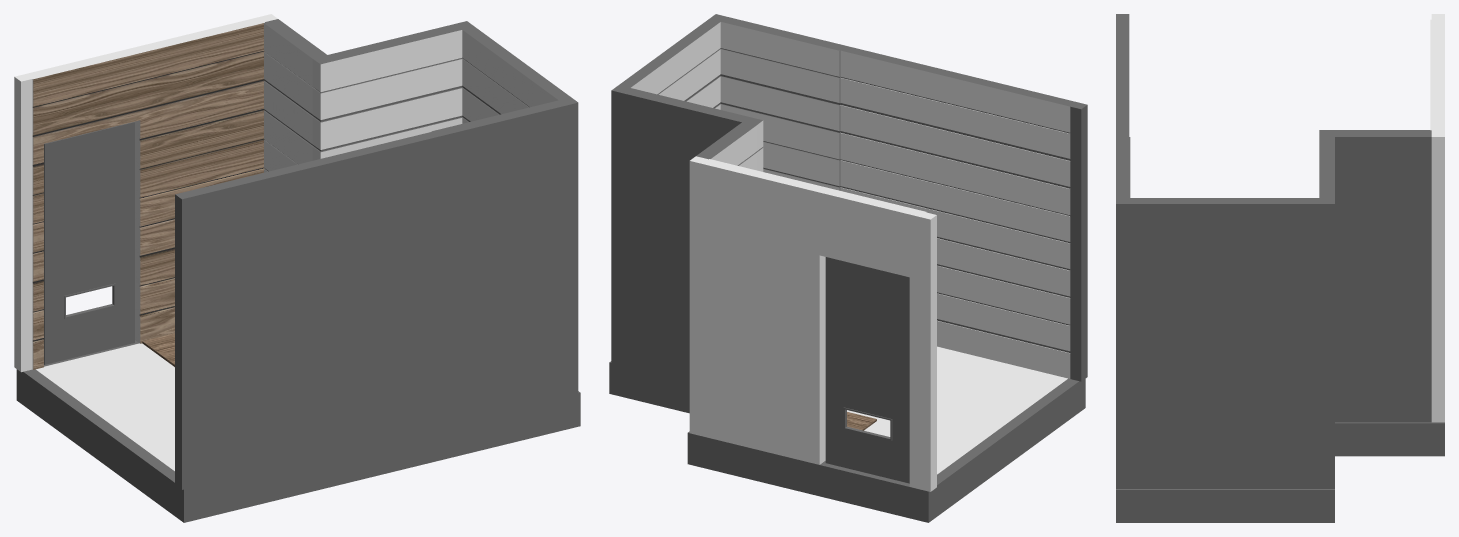
Rendered from Room.glb.
3 renders of one model, left to right at view 1: azimuth 30°, elevation 25°; view 2: azimuth 150°, elevation 25°; view 3: azimuth 270°, elevation 25°, orthographic. The views are drawn at different scales.
Parts seen in each view (by area): view 1: Plane.002; view 2: Plane.002; view 3: Plane.002.
Part boxes in pixels (<box>): Plane.002: <box>14,14,580,522</box>; Plane.002: <box>609,14,1087,522</box>; Plane.002: <box>1116,14,1444,522</box>.
Bounding box in the file's own units: 3.74 × 2.9 × 2.72.
6 materials, 2 textured.
